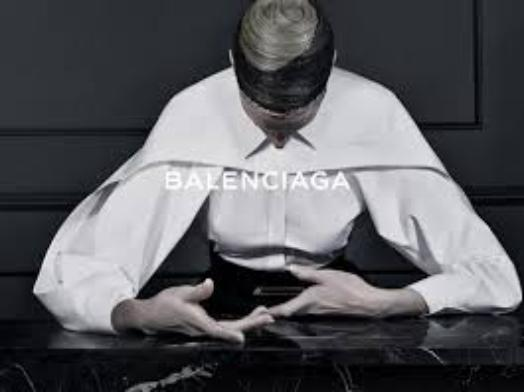BALENCIAGA: (162, 167, 355, 193)
